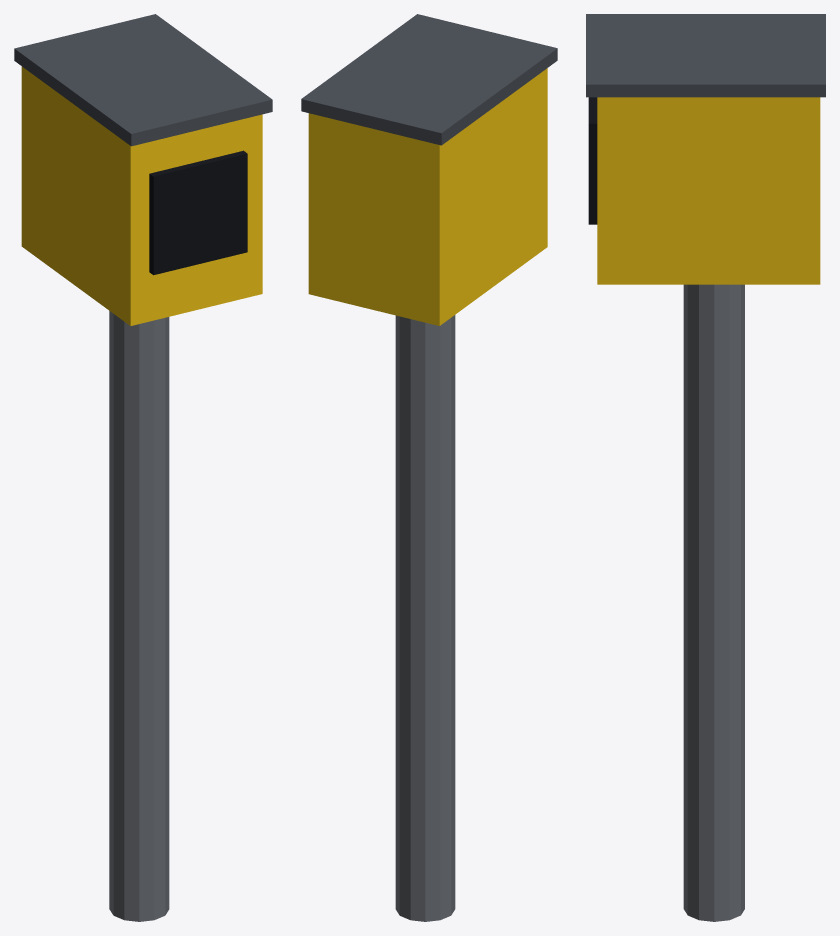
Rendered from camera.glb.
The picture shows the model from 3 angles, left to right: view 1: azimuth 30°, elevation 25°; view 2: azimuth 150°, elevation 25°; view 3: azimuth 270°, elevation 25°; orthographic projection. The views are drawn at different scales.
Size of the model in its own units: 0.6 by 3.4 by 0.86.
